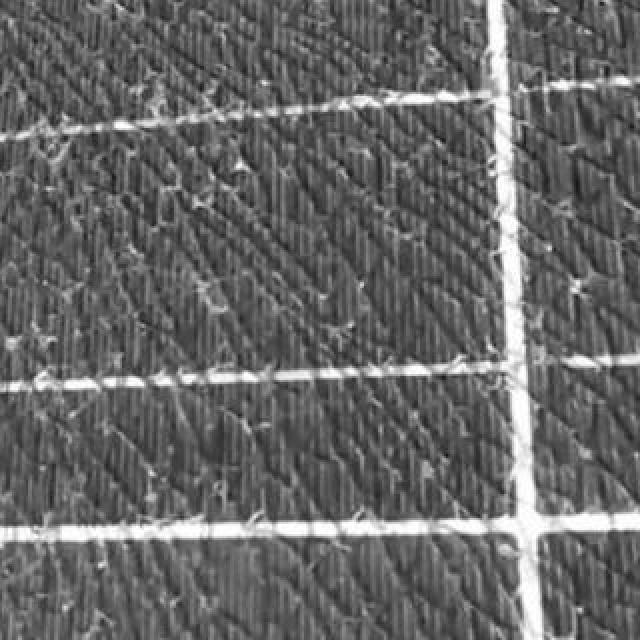Physical-damage: (12, 12, 624, 316), (26, 332, 630, 614)
